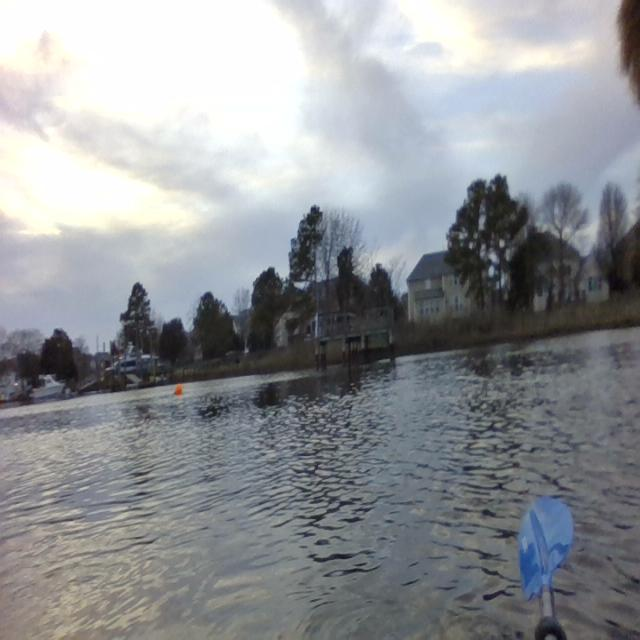Buoy: (171, 376, 187, 402)
